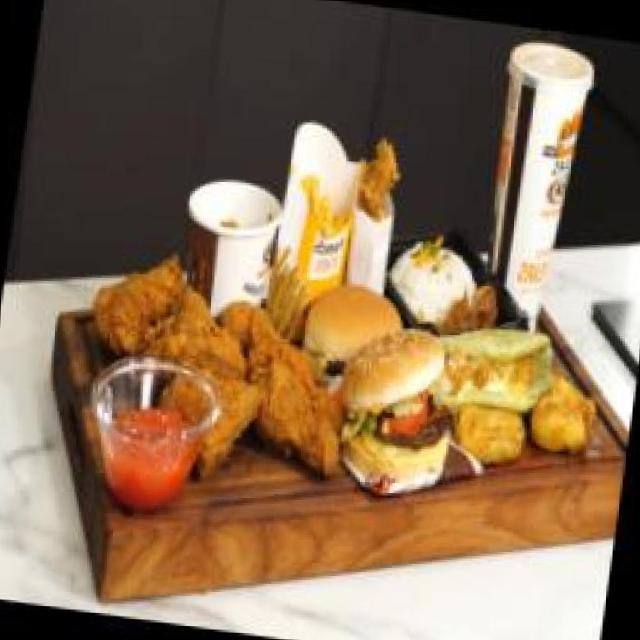AW cola: (454, 22, 610, 338)
black pepper rice bowl: (374, 212, 522, 352)
cheese burger: (284, 269, 406, 401)
chicken waffle: (336, 131, 409, 281)
crispy corn: (172, 172, 288, 322)
french fries: (270, 126, 368, 269)
fried chicken: (75, 234, 362, 492)
mango chicken pocket: (421, 308, 568, 426)
mozza burger: (320, 312, 470, 525)
perkedel: (525, 360, 609, 472), (448, 398, 524, 492)
